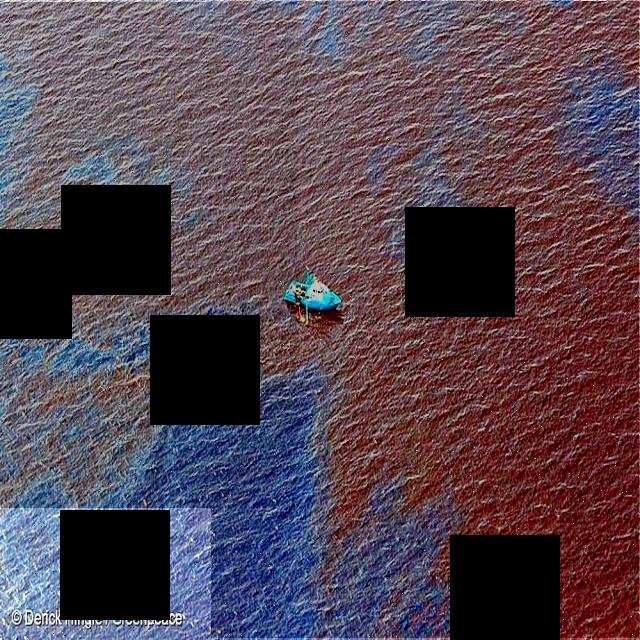oil spill: (211, 2, 640, 638), (0, 3, 298, 508)
